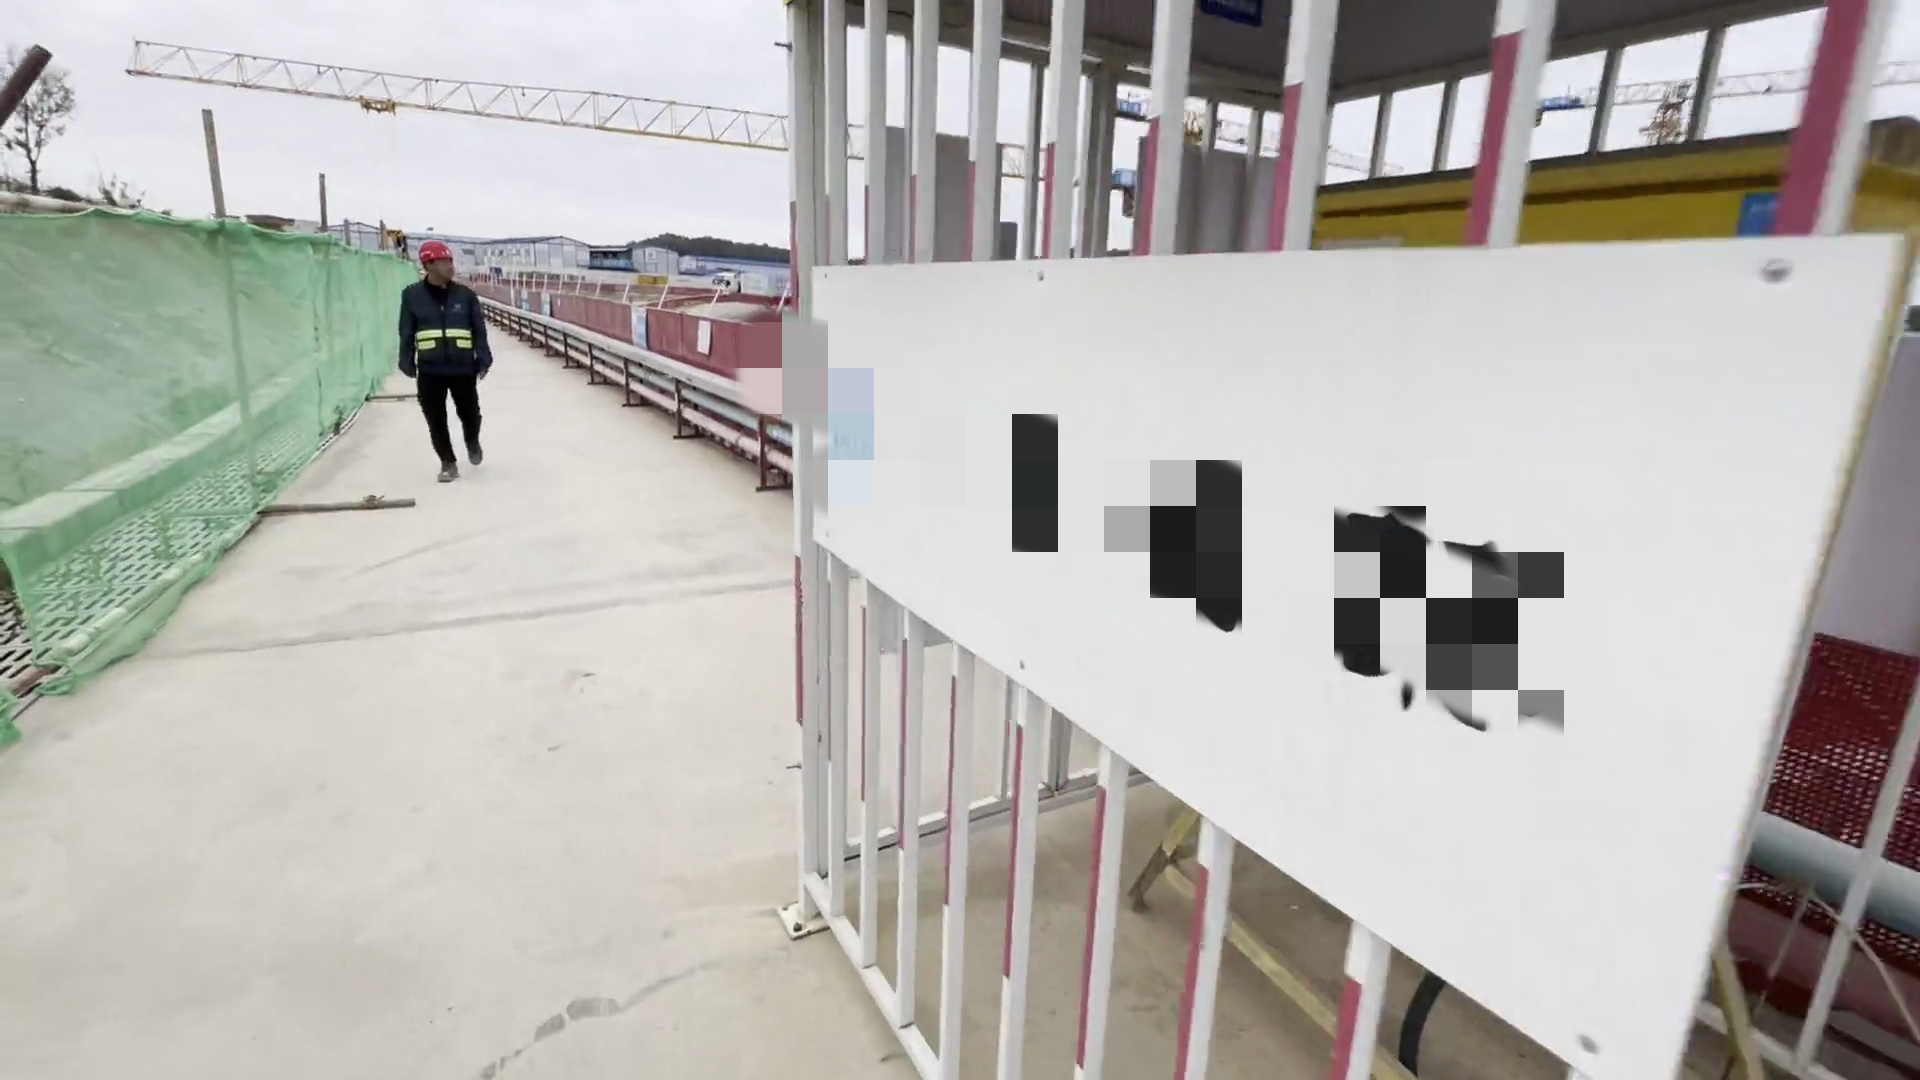ebox: (1249, 125, 1920, 306)
fence: (384, 217, 766, 420)
helmet: (413, 237, 459, 272)
person: (395, 236, 507, 495)
slogan: (593, 302, 725, 371), (509, 286, 559, 337)
vest: (401, 278, 480, 382)
